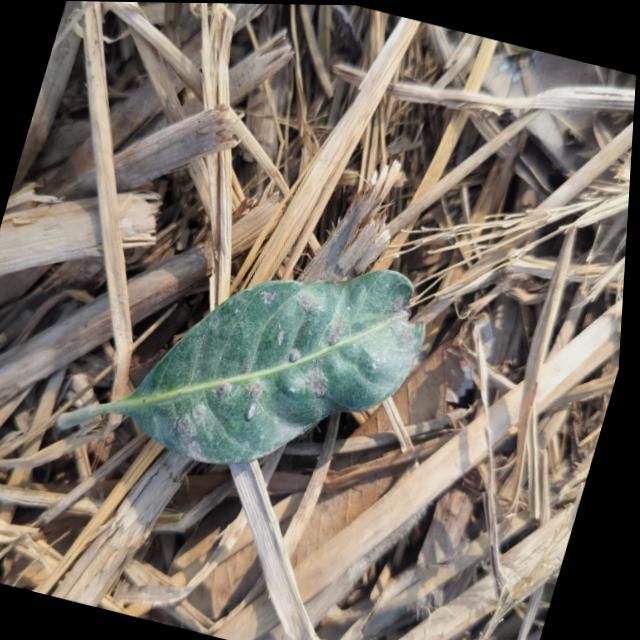gall midge: (274, 302, 359, 402)
